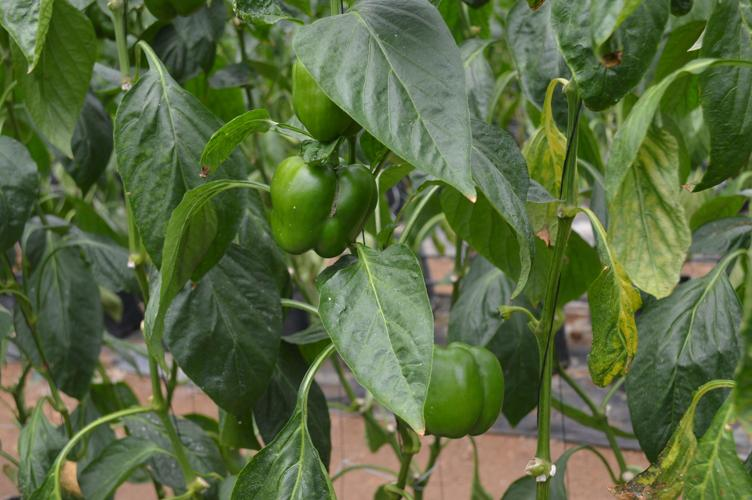BellPepper: (264, 158, 378, 260), (422, 344, 504, 442), (288, 63, 354, 140)
